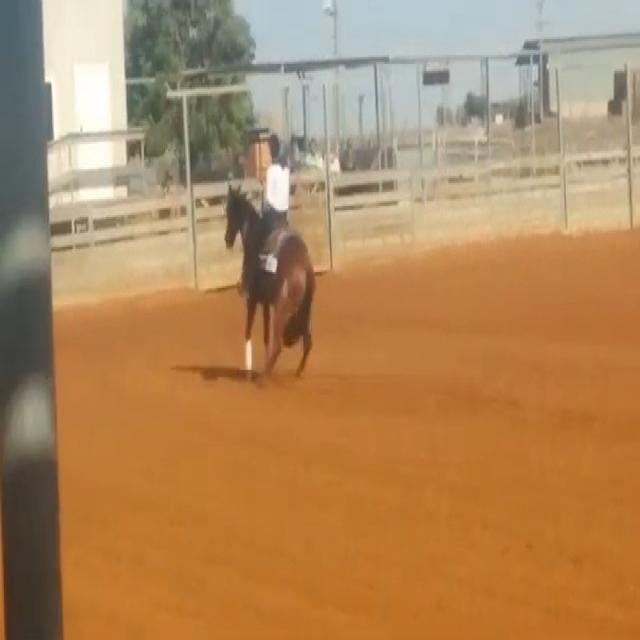horse: (220, 180, 317, 386)
